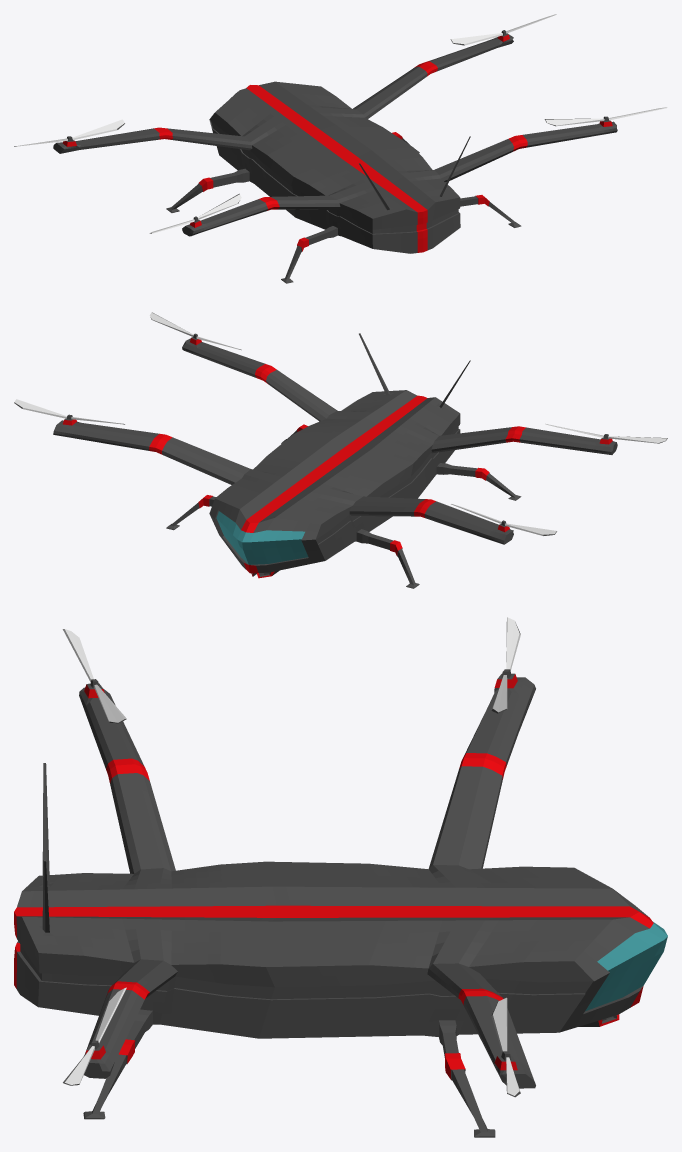
File: DroneEnemy.fbx
The picture shows the model from 3 angles, top to bottom: view 1: azimuth 30°, elevation 25°; view 2: azimuth 150°, elevation 25°; view 3: azimuth 270°, elevation 25°; orthographic projection. The views are drawn at different scales.
Parts seen in each view (by area): view 1: Speedy Drone; view 2: Speedy Drone; view 3: Speedy Drone.
Part boxes in pixels (x1=…): Speedy Drone: x1=14, y1=14, x2=667, y2=283; Speedy Drone: x1=14, y1=312, x2=667, y2=588; Speedy Drone: x1=14, y1=617, x2=667, y2=1137.
Size of the model in its own units: 556 by 118 by 323.
